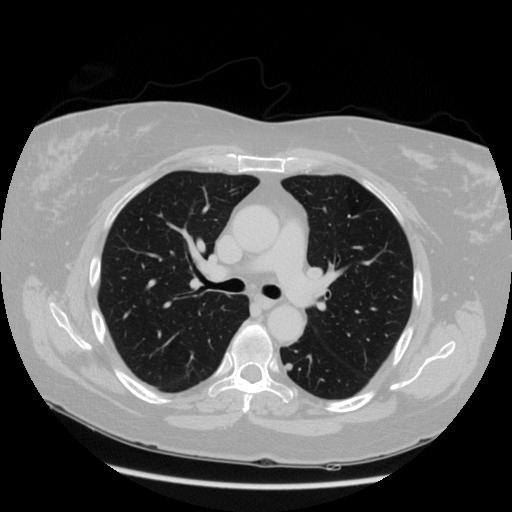nodule: (282, 360, 295, 373)
